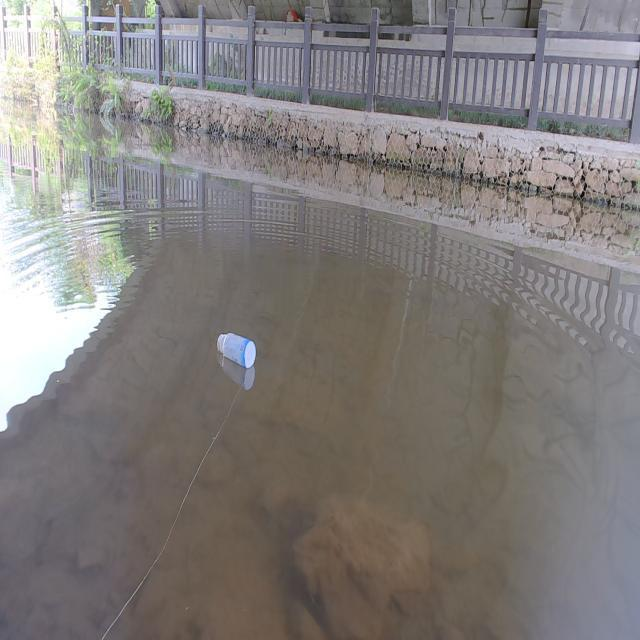garbage: (215, 325, 262, 377)
